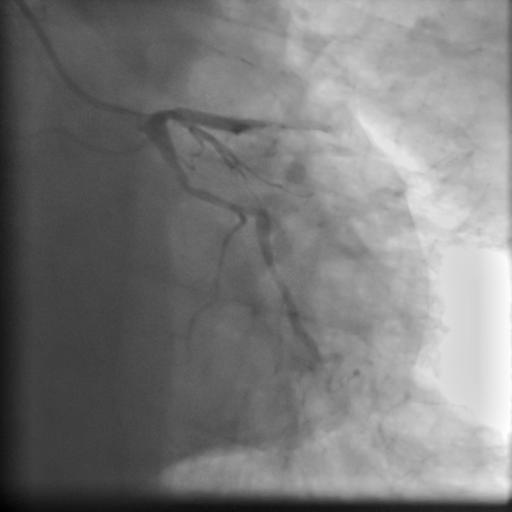Stenosis: (236, 200, 263, 222)
